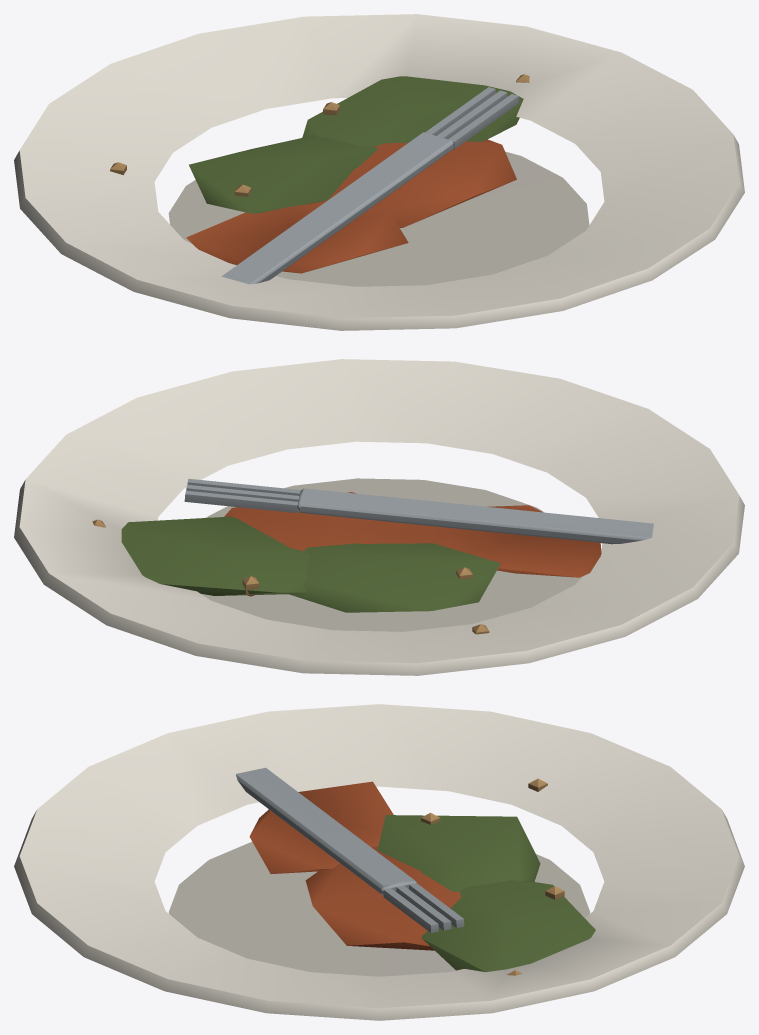
File: item_dish.glb
The picture shows the model from 3 angles, top to bottom: view 1: azimuth 30°, elevation 25°; view 2: azimuth 150°, elevation 25°; view 3: azimuth 270°, elevation 25°; orthographic projection.
Parts seen in each view (by area): view 1: item_dish; view 2: item_dish; view 3: item_dish.
Part boxes in pixels (bbox=[...]): item_dish: bbox=[14, 14, 744, 330]; item_dish: bbox=[14, 359, 744, 675]; item_dish: bbox=[14, 704, 744, 1020].
Bounding box in the file's own units: 0.26 × 0.0263 × 0.26.
